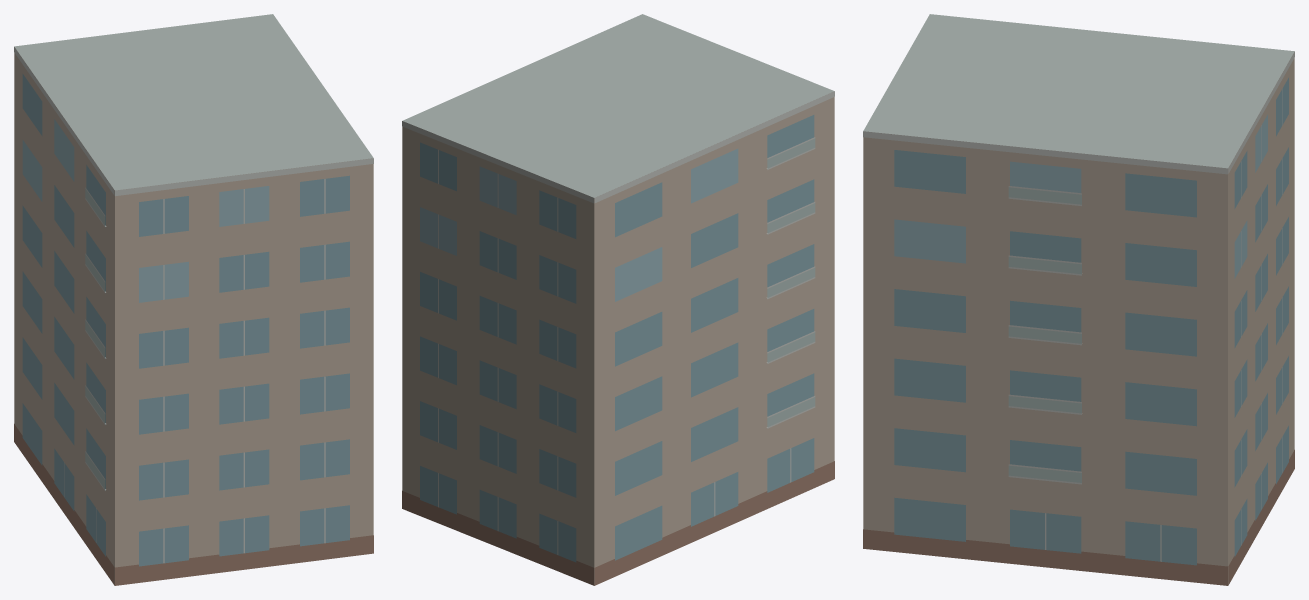
File: survey-upis-32660307.glb
The picture shows the model from 3 angles, left to right: view 1: azimuth 30°, elevation 25°; view 2: azimuth 150°, elevation 25°; view 3: azimuth 270°, elevation 25°; orthographic projection. The views are drawn at different scales.
Visible parts, largest first — view 1: survey-upis-32660307.tmp; view 2: survey-upis-32660307.tmp; view 3: survey-upis-32660307.tmp.
Boxes of the visible parts, left/top/right/bottom form: survey-upis-32660307.tmp: left=14, top=14, right=373, bottom=585; survey-upis-32660307.tmp: left=402, top=14, right=834, bottom=585; survey-upis-32660307.tmp: left=863, top=14, right=1294, bottom=585.
Bounding box in the file's own units: 13.33 × 16.8 × 15.75.
